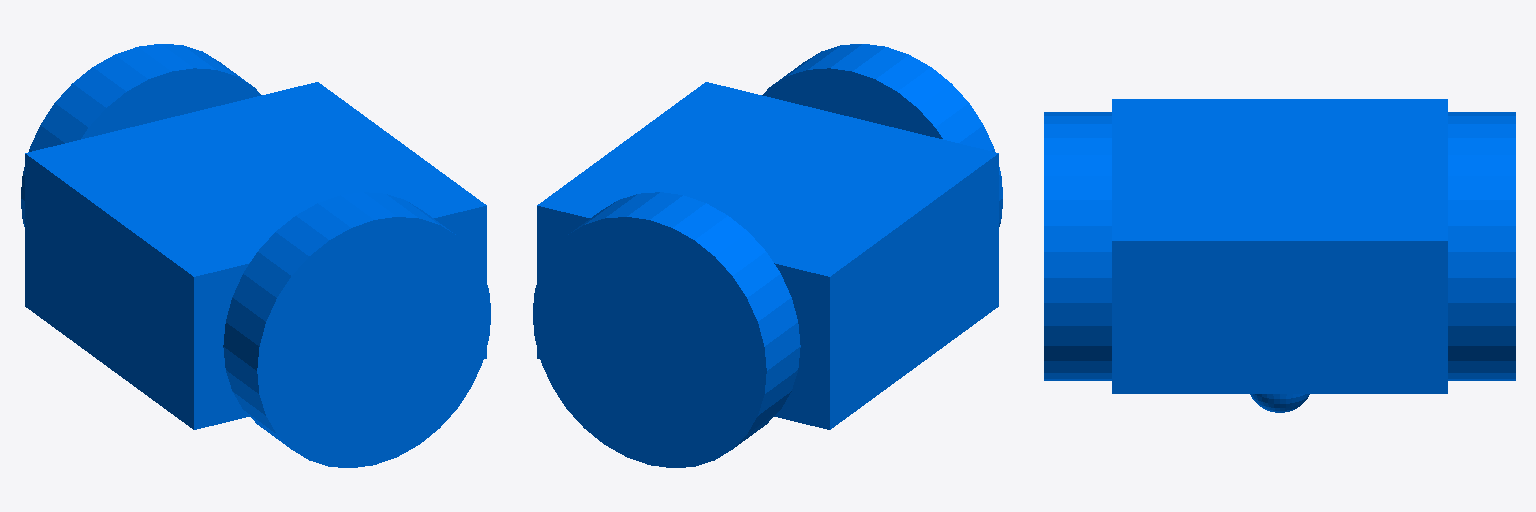
robot.urdf — dd_robot:
<?xml version='1.0'?>
<robot name="dd_robot">  

    <!-- Base Link -->  
    <link name="base_link">
	<!-- Base -->
	<visual>      
	    <origin xyz="0 0 0" rpy="0 0 0" />      
	    <geometry>          
		<box size="0.5 0.5 0.25"/>     
	    </geometry>
	    <material name="blue">        
		<color rgba="0 0.5 1 1"/>    
	    </material>
	    <inertial>        
		<mass value="5"/>        
	    	<inertia ixx="0.13" ixy="0.0" ixz="0.0" iyy="0.21" iyz="0.0" izz="0.13"/>     
	    </inertial>
	</visual>
	<!-- Base collision -->
	<collision>         
	    <origin xyz="0 0 0" rpy="0 0 0" />         
	    <geometry>                         
		<box size="0.5 0.5 0.25"/>                     
	    </geometry>
	</collision>
	<!-- Caster -->
	<visual name="caster">        
	    <origin xyz="0.2 0 -0.125" rpy="0 0 0" />        
	    <geometry>               
		<sphere radius="0.05" />         
	    </geometry>
	    <material name="blue">        
		<color rgba="0 0.5 1 1"/>    
	    </material>    
	</visual>     
	<!-- Caster collision -->
	<collision>                     
	    <origin xyz="0.2 0 -0.125" rpy="0 0 0" />                     
	    <geometry>                         
		<sphere radius="0.05" />                    
	    </geometry>
	</collision>    
    </link>
 

    <!-- Right Wheel -->  
    <link name="right_wheel">    
	<visual>
	    <origin xyz="0 0 0" rpy="1.570795 0 0" />      
	    <geometry>          
		<cylinder length="0.1" radius="0.2" />      
	    </geometry>
	    <material name="blue">        
		<color rgba="0 0.5 1 1"/>    
	    </material>
	    <inertial>              
		<mass value="0.5"/>              
		<inertia ixx="0.01" ixy="0.0" ixz="0.0" iyy="0.005" iyz="0.0" izz="0.005"/>       
	    </inertial>     
	</visual>  
    </link>
    <!-- Right Wheel joint --> 
    <joint name="joint_right_wheel" type="continuous">    
	<parent link="base_link"/>    
	<child link="right_wheel"/>    
	<origin xyz="0 -0.30 0" rpy="0 0 0" />     
	<axis xyz="0 1 0" />  
    </joint>		
    <!-- Right Wheel collision -->
    <collision>                  
	<origin xyz="0 0 0" rpy="1.570795 0 0" />                  
	<geometry>                       
		<cylinder length="0.1" radius="0.2" />                  
	</geometry>
    </collision>

    <!-- Left Wheel -->  
    <link name="left_wheel">    
	<visual>      
	    <origin xyz="0 0 0" rpy="1.570795 0 0" />      
	    <geometry>          
		<cylinder length="0.1" radius="0.2" />      
	    </geometry>
	    <material name="blue">        
		<color rgba="0 0.5 1 1"/>    
	    </material>
	    <inertial>                 
		<mass value="0.5"/>                 
		<inertia ixx="0.01" ixy="0.0" ixz="0.0" iyy="0.005" iyz="0.0" izz="0.005"/>       
	    </inertial>     
	</visual>  
    </link> 
    <!-- Left Wheel joint --> 
    <joint name="joint_left_wheel" type="continuous">    
	<parent link="base_link"/>    
	<child link="left_wheel"/>    
	<origin xyz="0 0.30 0" rpy="0 0 0" />     
	<axis xyz="0 1 0" />  
    </joint>
    <!-- Left Wheel collision -->
    <collision>                   
	<origin xyz="0 0 0" rpy="1.570795 0 0" />                   
	<geometry>                        
	    <cylinder length="0.1" radius="0.2" />                   
	</geometry>
    </collision>

</robot>

--- What the picture shows (computed from the rendered views, not written in the file) ---
The picture shows the robot from 3 angles, left to right: view 1: azimuth 30°, elevation 25°; view 2: azimuth 150°, elevation 25°; view 3: azimuth 270°, elevation 25°; orthographic projection.
Robot: dd_robot — 3 links, 2 joints (2 continuous); root link base_link; default pose: all joints at 0.
Visible links, largest first — view 1: base_link, right_wheel, left_wheel; view 2: base_link, left_wheel, right_wheel; view 3: base_link, right_wheel, left_wheel.
Boxes of the visible links, left/top/right/bottom form: base_link: left=25, top=82, right=486, bottom=429; right_wheel: left=223, top=192, right=490, bottom=467; left_wheel: left=21, top=44, right=261, bottom=226; base_link: left=537, top=82, right=998, bottom=429; left_wheel: left=533, top=192, right=800, bottom=467; right_wheel: left=762, top=44, right=1002, bottom=226; base_link: left=1112, top=99, right=1447, bottom=412; right_wheel: left=1044, top=112, right=1111, bottom=380; left_wheel: left=1448, top=112, right=1515, bottom=380.
Size in the robot's own frame: 0.5 by 0.7 by 0.4 metres.
Geometry: primitives only (box / cylinder / sphere), no mesh files.
